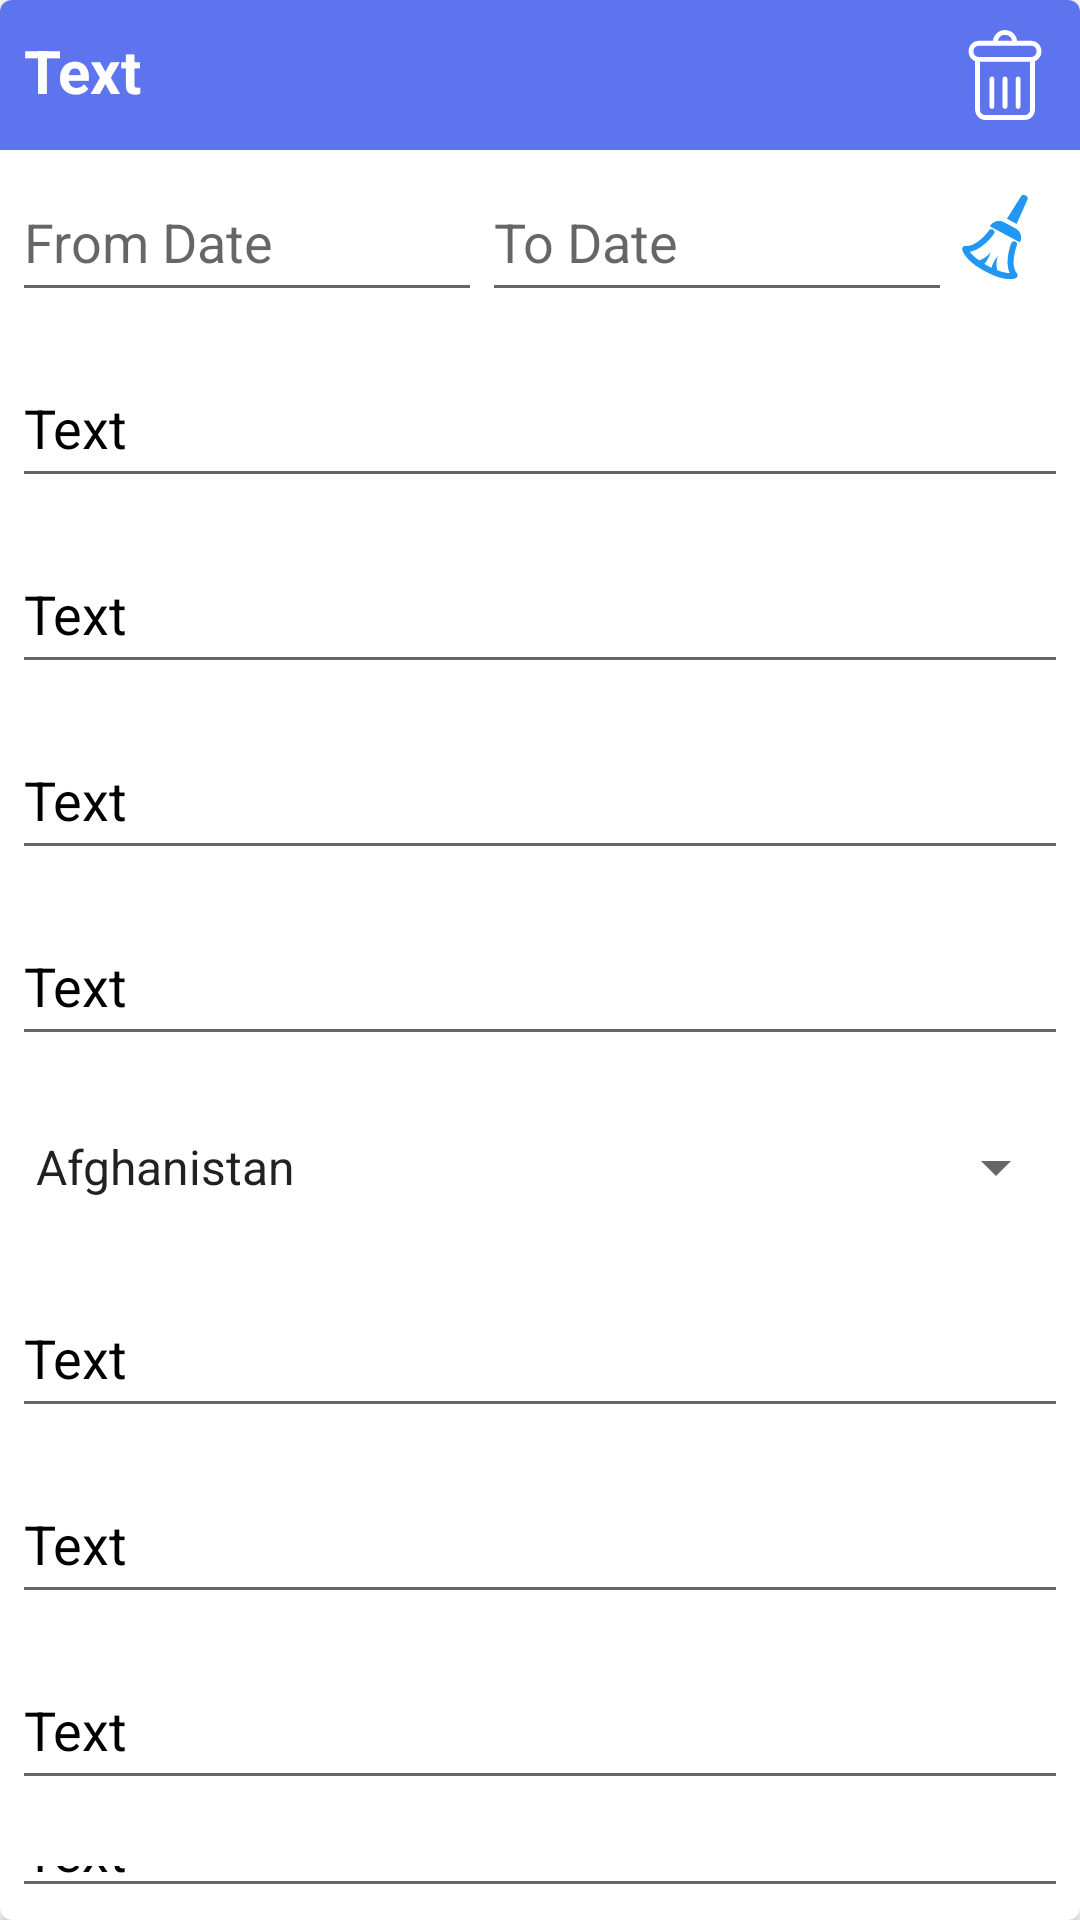

Icon click points for this 1080px×1920px phone screenshot, format (x,y):
clear: (995,237)
Delete Item: (1024,60)
